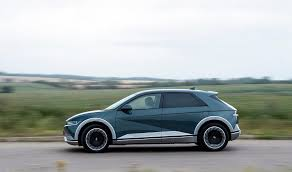Honda Ioniq: (59, 84, 244, 161)
